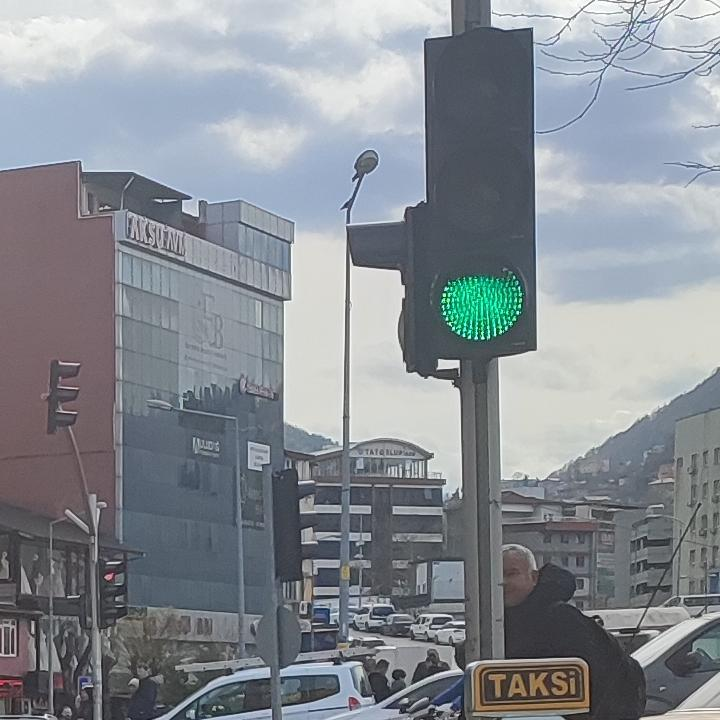green: (419, 25, 538, 361)
